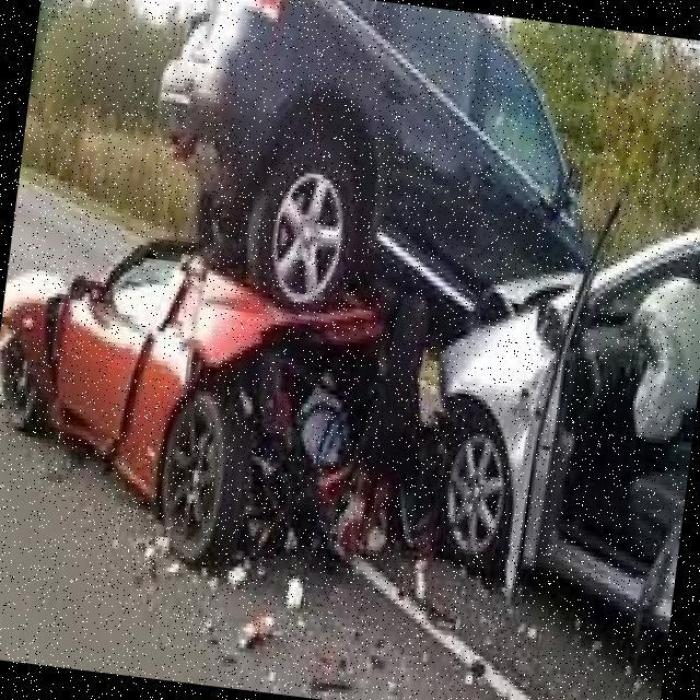Accident: (0, 168, 590, 612)
